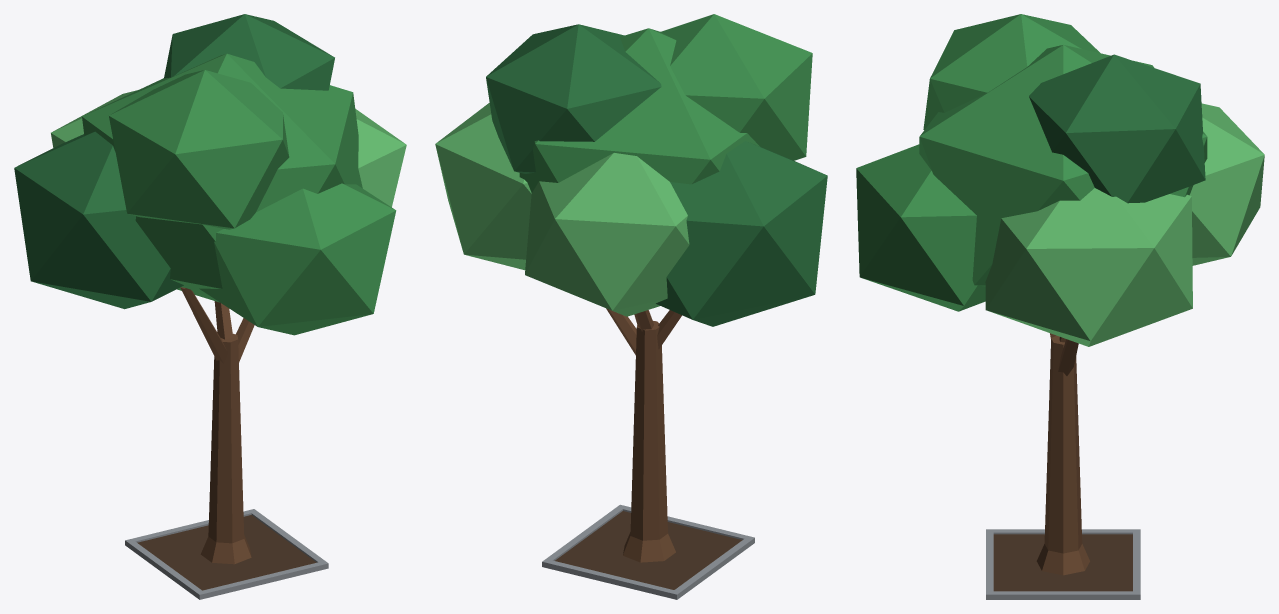
Rendered from tree_oak.glb.
3 views of the same model, side by side, from view 1: azimuth 30°, elevation 25°; view 2: azimuth 150°, elevation 25°; view 3: azimuth 270°, elevation 25° (orthographic). The views are drawn at different scales.
Parts seen in each view (by area): view 1: tree_oak; view 2: tree_oak; view 3: tree_oak.
Boxes of the visible parts, x1,y1,x2,y2 form: tree_oak: [14, 14, 406, 599]; tree_oak: [435, 14, 827, 599]; tree_oak: [856, 14, 1264, 599].
Bounding box in the file's own units: 4.42 × 6.1 × 4.23.
